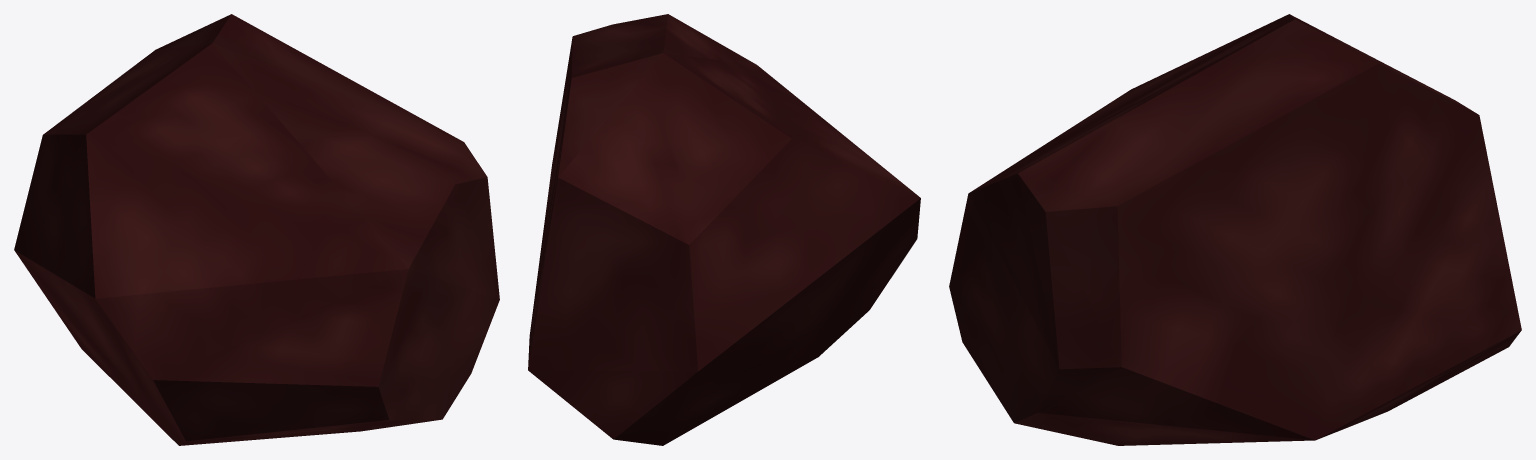
File: pedregulho3.fbx
3 views of the same model, side by side, from view 1: azimuth 30°, elevation 25°; view 2: azimuth 150°, elevation 25°; view 3: azimuth 270°, elevation 25° (orthographic). The views are drawn at different scales.
Visible parts, largest first — view 1: PedregulhoP; view 2: PedregulhoP; view 3: PedregulhoP.
Boxes of the visible parts, bbox=[...] form: PedregulhoP: bbox=[14, 14, 499, 445]; PedregulhoP: bbox=[528, 14, 920, 445]; PedregulhoP: bbox=[949, 14, 1521, 445].
Bounding box in the file's own units: 366 × 318 × 425.
